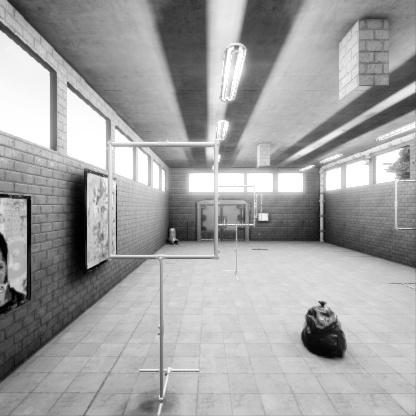gate: (114, 164, 224, 274), (218, 192, 257, 232), (398, 188, 416, 238), (256, 197, 262, 223)
